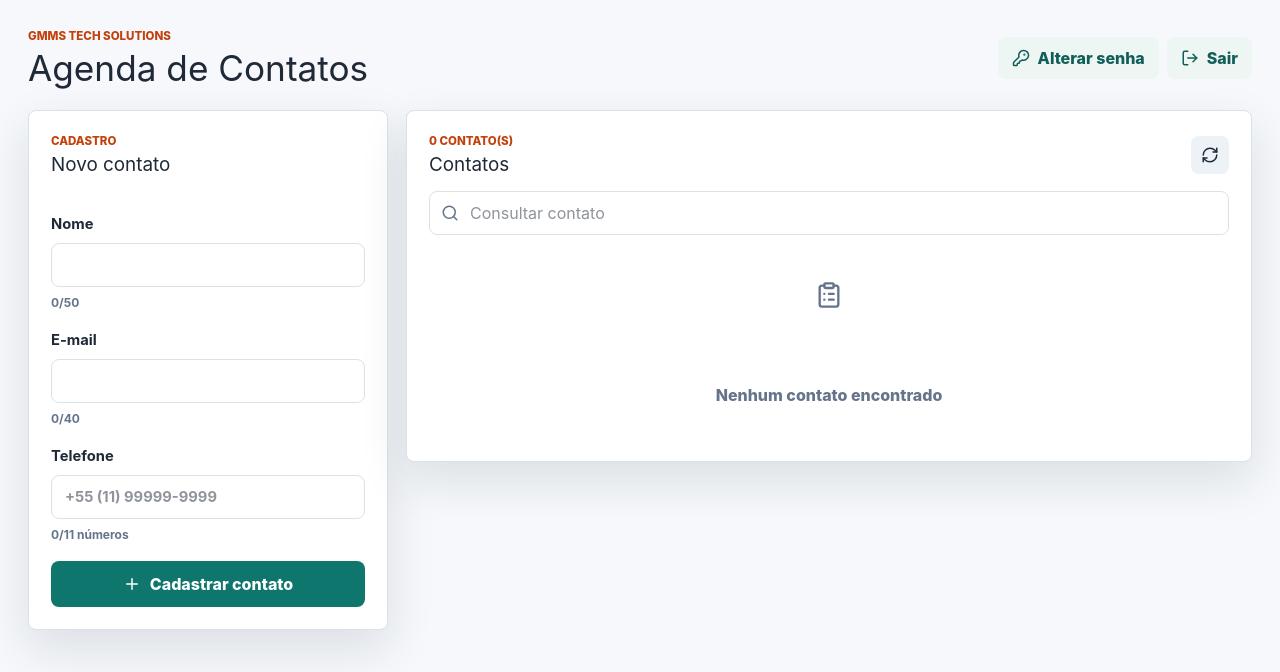
Scenario: ContactsView › impede trocar a senha quando a confirmação não confere
Step 1. Click the button "Alterar senha" → (1078, 58), box [998,37,1159,79]
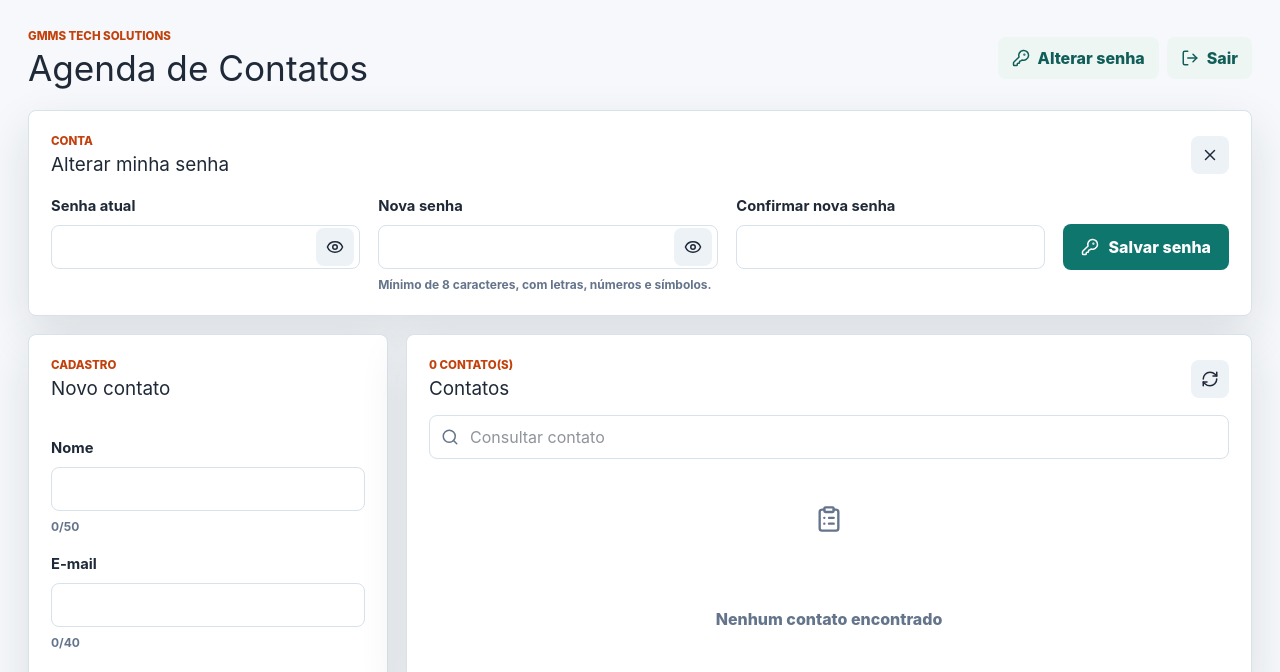
Step 2. Type "Admin@123456" into the password field labelled "Senha atual" → (206, 247), box [51,225,360,269]
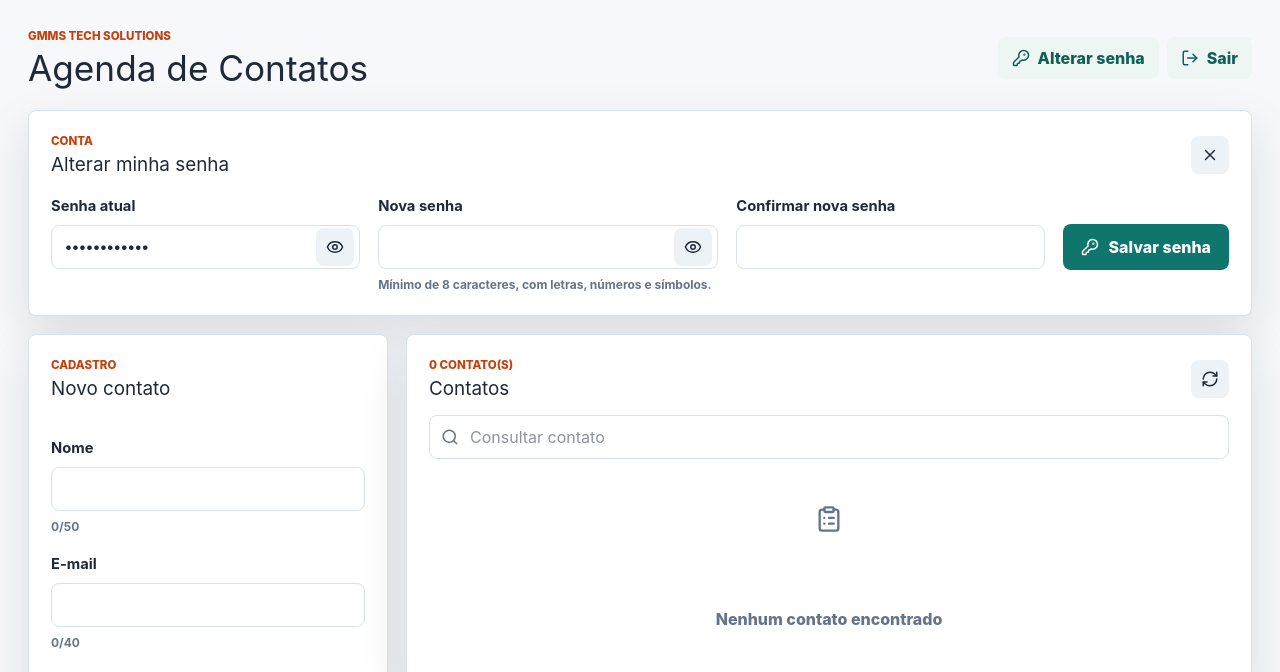
Step 3. Type "User@12345678" into the 2nd password field → (548, 247), box [378,225,718,269]
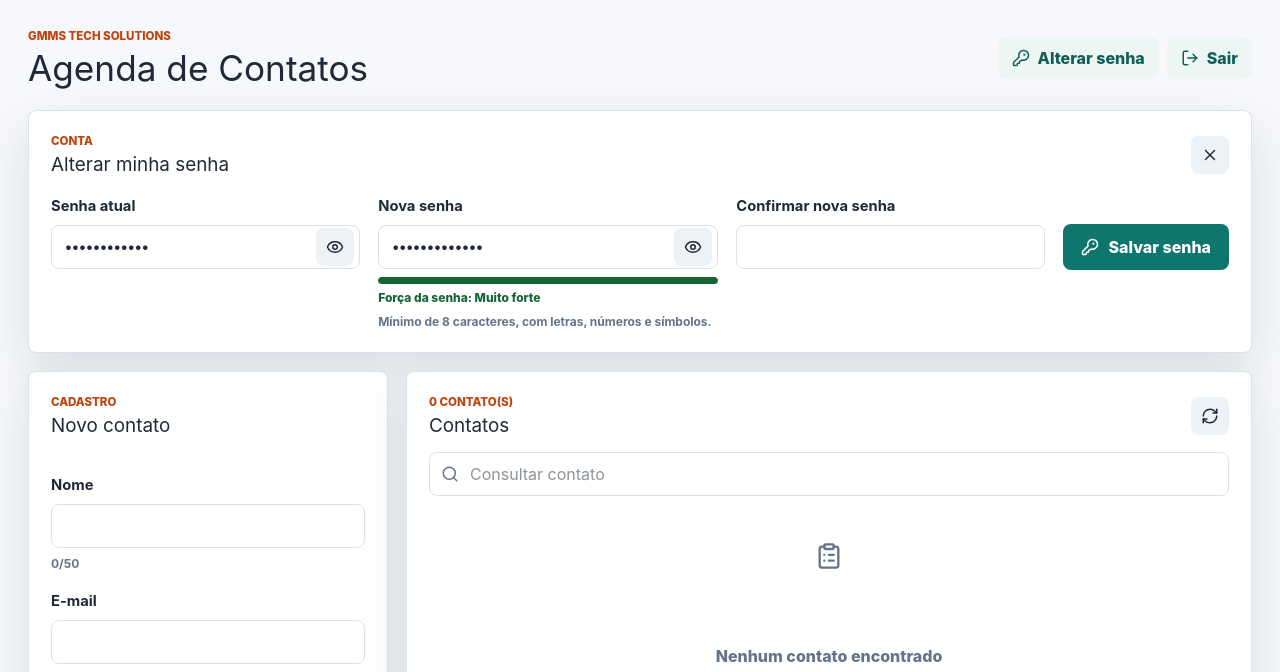
Step 4. Type "User@123456" into the password field labelled "Confirmar nova senha" → (891, 247), box [736,225,1046,269]
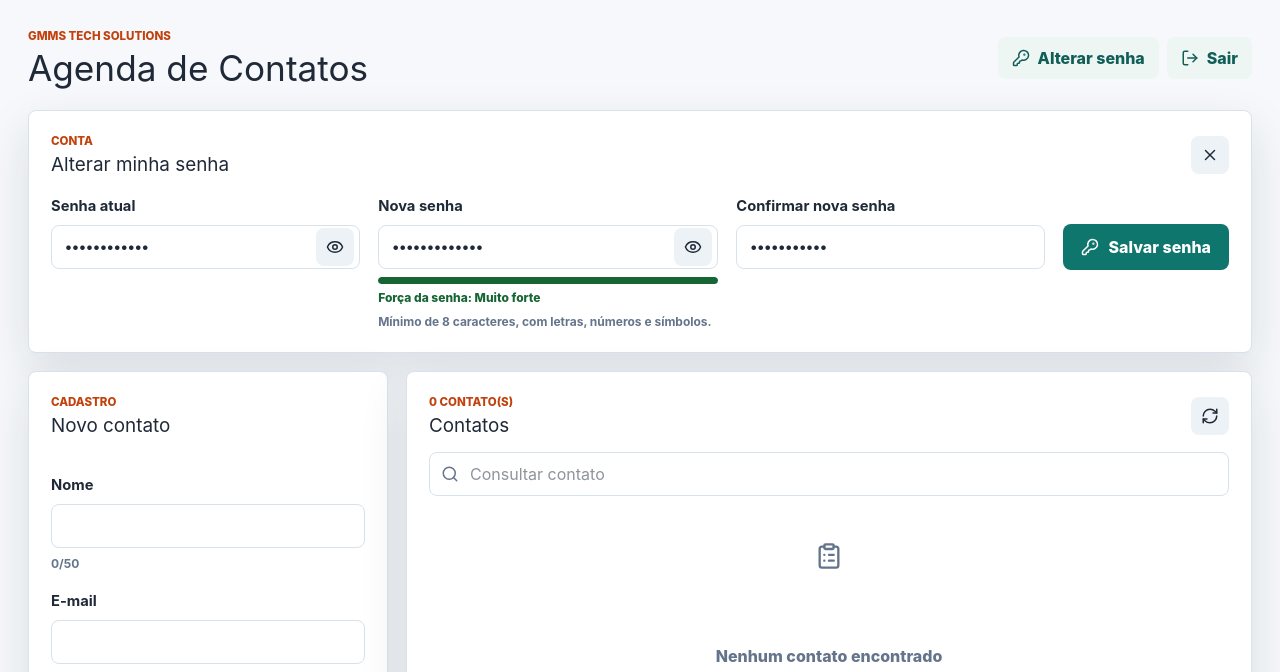
Step 5. Submit the form that starts with "Conta", box [28,110,1252,353]
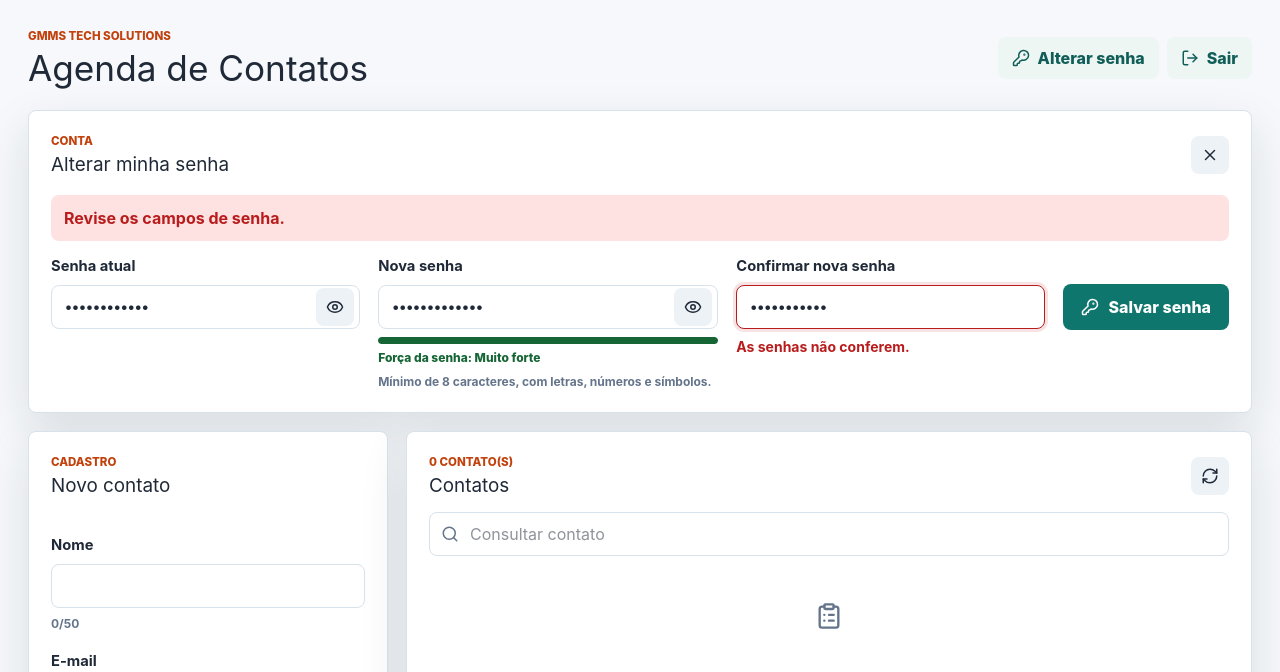
Check: the text "As senhas não conferem." is shown, box [736,338,910,355]
